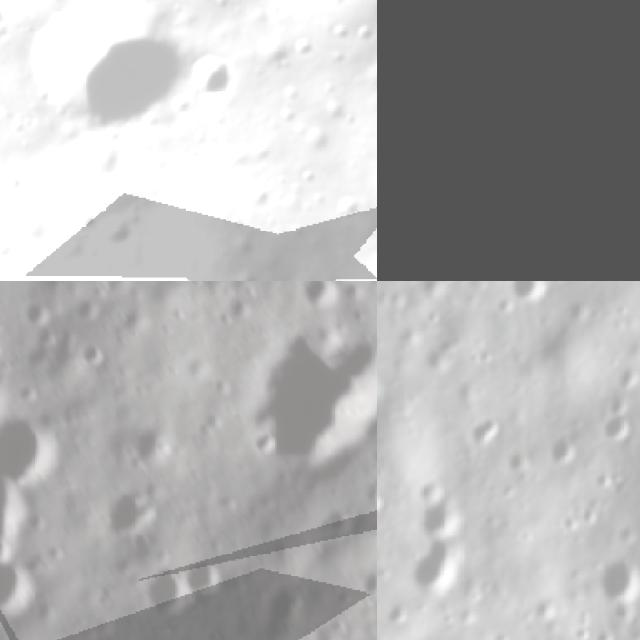crater: (0, 0, 214, 162), (231, 317, 377, 463), (0, 391, 62, 485), (177, 38, 250, 111), (96, 477, 158, 534), (135, 557, 182, 620), (344, 24, 377, 112), (121, 410, 176, 462), (0, 474, 32, 554), (412, 540, 463, 590), (182, 545, 229, 598), (418, 486, 463, 540), (0, 554, 35, 619), (88, 208, 136, 254), (596, 557, 640, 603), (464, 410, 502, 456), (241, 179, 280, 215), (542, 430, 576, 470), (330, 188, 366, 224), (595, 416, 639, 444), (383, 597, 412, 633), (68, 201, 100, 233), (511, 281, 549, 305), (255, 267, 320, 281), (377, 356, 391, 407), (377, 482, 385, 519)
